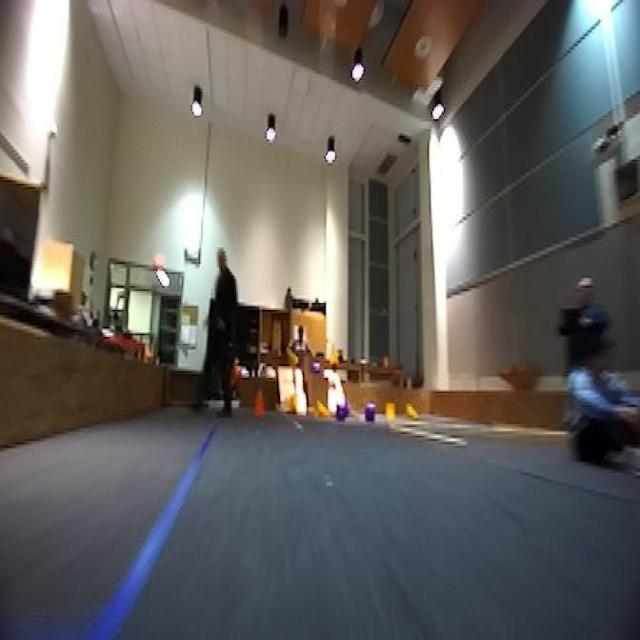frc_cone: (312, 400, 330, 424), (406, 405, 422, 426), (384, 400, 395, 427), (288, 349, 302, 369), (329, 343, 340, 368)
frc_cube: (363, 402, 377, 426), (309, 356, 323, 376), (334, 403, 346, 424)
